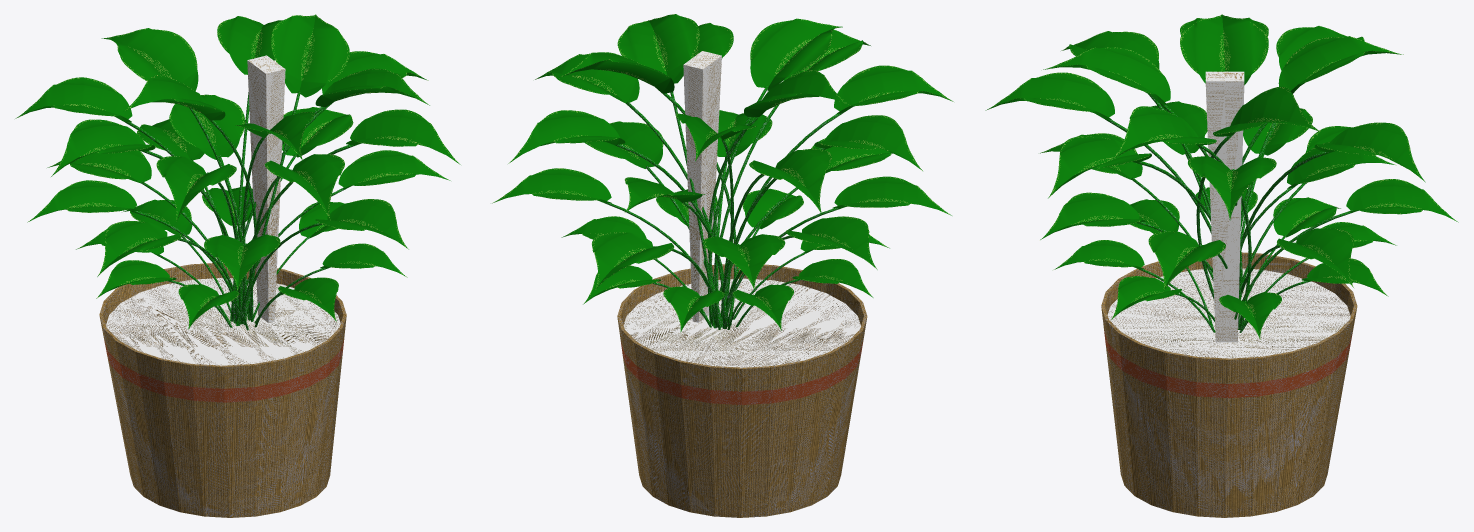
3 views of the same model, side by side, from view 1: azimuth 30°, elevation 25°; view 2: azimuth 150°, elevation 25°; view 3: azimuth 270°, elevation 25° (orthographic). The views are drawn at different scales.
Parts seen in each view (by area): view 1: SketchUp (×5), Component_1 (×31); view 2: SketchUp (×5), Component_1 (×32); view 3: SketchUp (×5), Component_1 (×27).
Part boxes in pixels (<box>): SketchUp (×5): <box>99,55,346,517</box>; Component_1 (×31): <box>22,16,454,325</box>; SketchUp (×5): <box>617,51,867,517</box>; Component_1 (×32): <box>499,15,946,328</box>; SketchUp (×5): <box>1101,71,1357,517</box>; Component_1 (×27): <box>995,15,1452,335</box>.
Bounding box in the file's own units: 51.8 × 53.74 × 53.21.
Materials: 7 (2 with a texture image).
